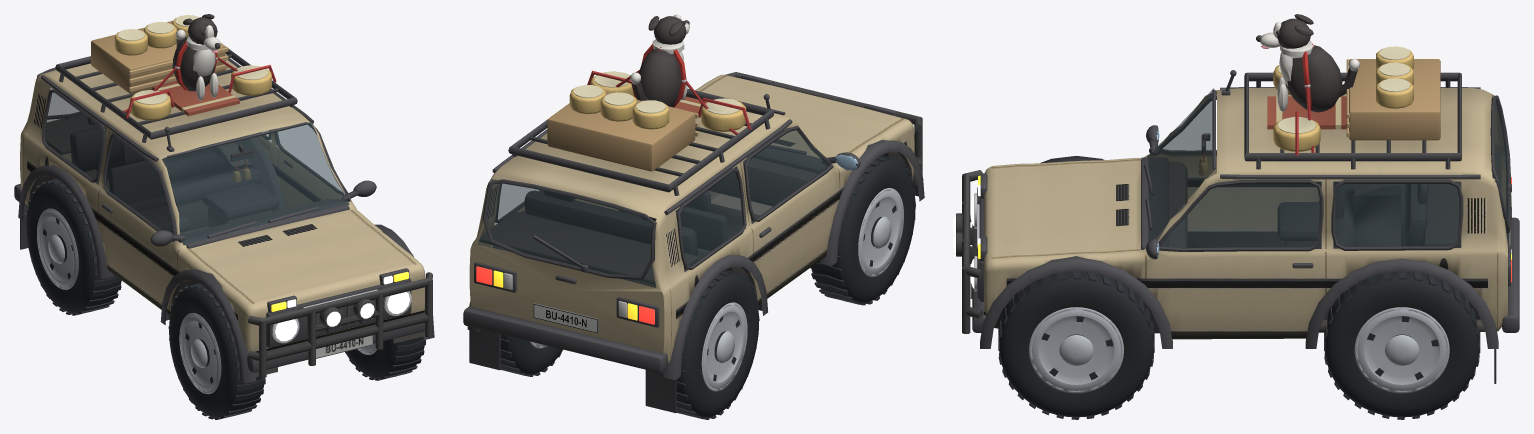
The model's file is niva.glb.
The picture shows the model from 3 angles, left to right: view 1: azimuth 30°, elevation 25°; view 2: azimuth 150°, elevation 25°; view 3: azimuth 270°, elevation 25°; orthographic projection. The views are drawn at different scales.
Visible parts, largest first — view 1: body, glass_f6, wheel_fr, wheel_rr, wheel_fl; view 2: body, glass_f6, wheel_fr, wheel_rr, wheel_rl; view 3: body, glass_f6, wheel_fl, wheel_rl.
Part boxes in pixels (<box>): body: <box>14,14,434,383</box>; glass_f6: <box>45,87,349,245</box>; wheel_fr: <box>168,283,265,419</box>; wheel_rr: <box>26,179,121,315</box>; wheel_fl: <box>345,336,425,380</box>; body: <box>463,14,924,413</box>; glass_f6: <box>477,130,828,287</box>; wheel_fr: <box>810,155,915,305</box>; wheel_rr: <box>676,270,759,419</box>; wheel_rl: <box>500,334,562,376</box>; body: <box>953,14,1519,383</box>; glass_f6: <box>1147,88,1508,248</box>; wheel_fl: <box>998,271,1154,419</box>; wheel_rl: <box>1324,271,1480,419</box>.
Bounding box in the file's own units: 2 × 2.59 × 3.83.
Materials: 34 (2 with a texture image).
